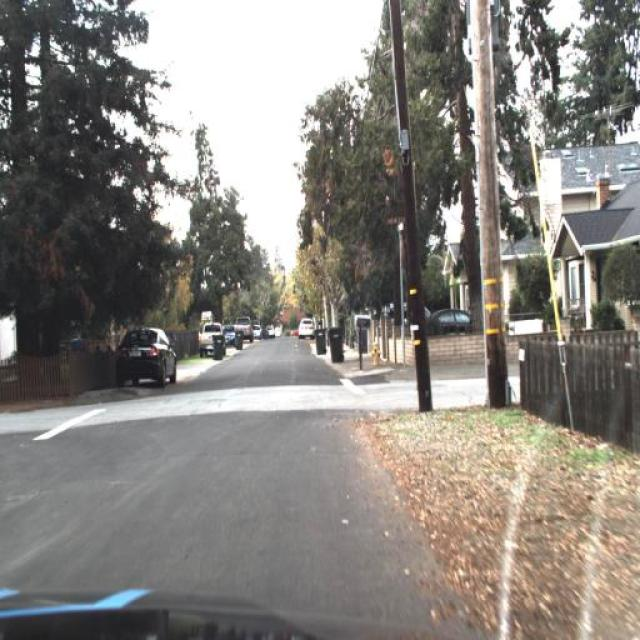car: (112, 320, 176, 392), (116, 320, 180, 386), (422, 294, 499, 327), (384, 287, 430, 321), (194, 320, 227, 360), (198, 318, 228, 362), (237, 316, 257, 342), (222, 325, 236, 349), (298, 315, 314, 335)
